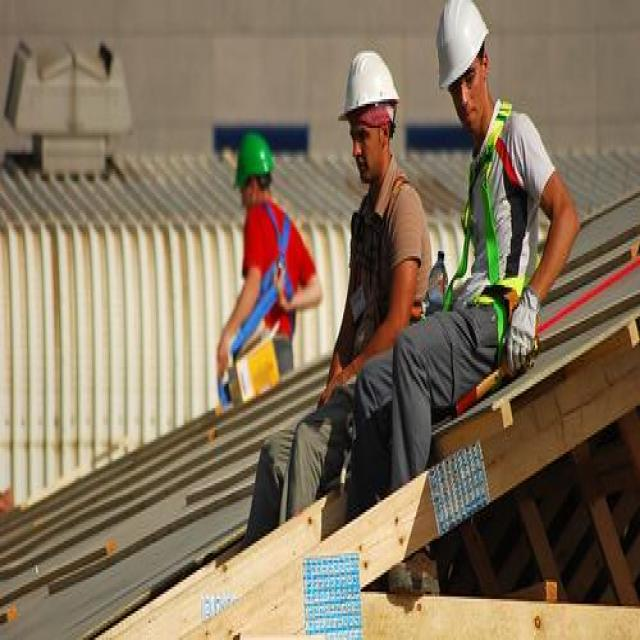Safety-Helmet: (427, 1, 493, 97), (336, 39, 404, 128), (228, 123, 283, 196)
